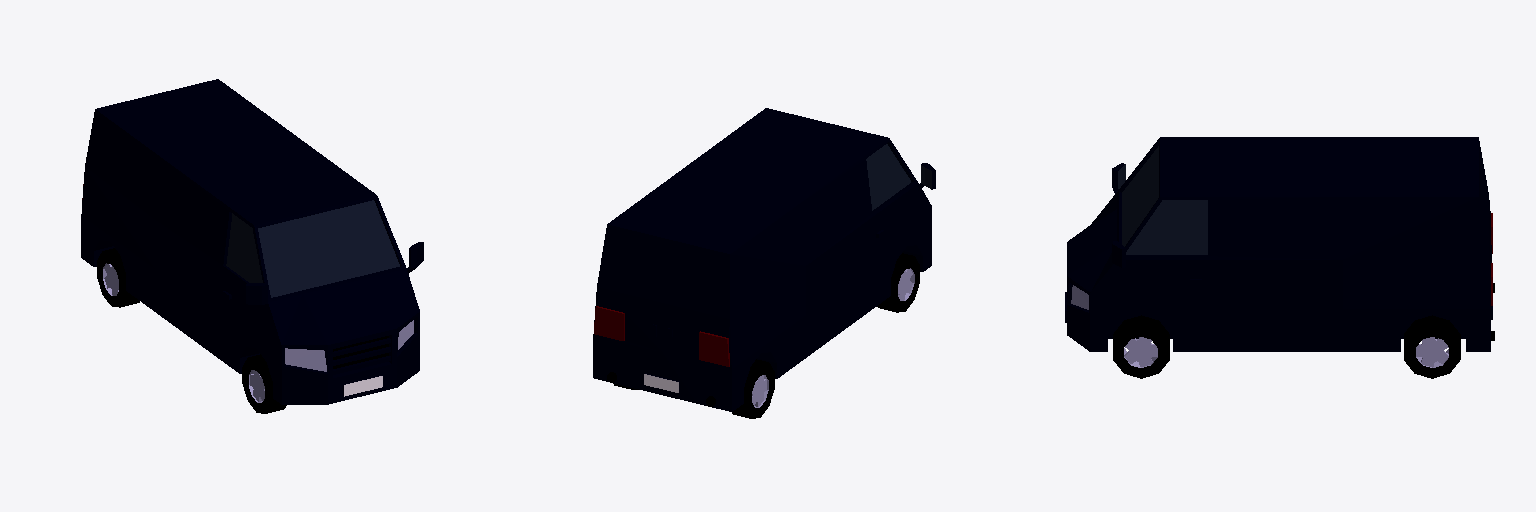
Rendered from van.obj.
3 renders of one model, left to right at view 1: azimuth 30°, elevation 25°; view 2: azimuth 150°, elevation 25°; view 3: azimuth 270°, elevation 25°, orthographic.
Visible parts, largest first — view 1: Van; view 2: Van; view 3: Van.
Boxes of the visible parts, box(x1,y1,x2,y2) form: Van: box(81, 79, 423, 413); Van: box(593, 108, 935, 418); Van: box(1065, 137, 1494, 378).
Bounding box in the file's own units: 2.81 × 2.71 × 5.91.